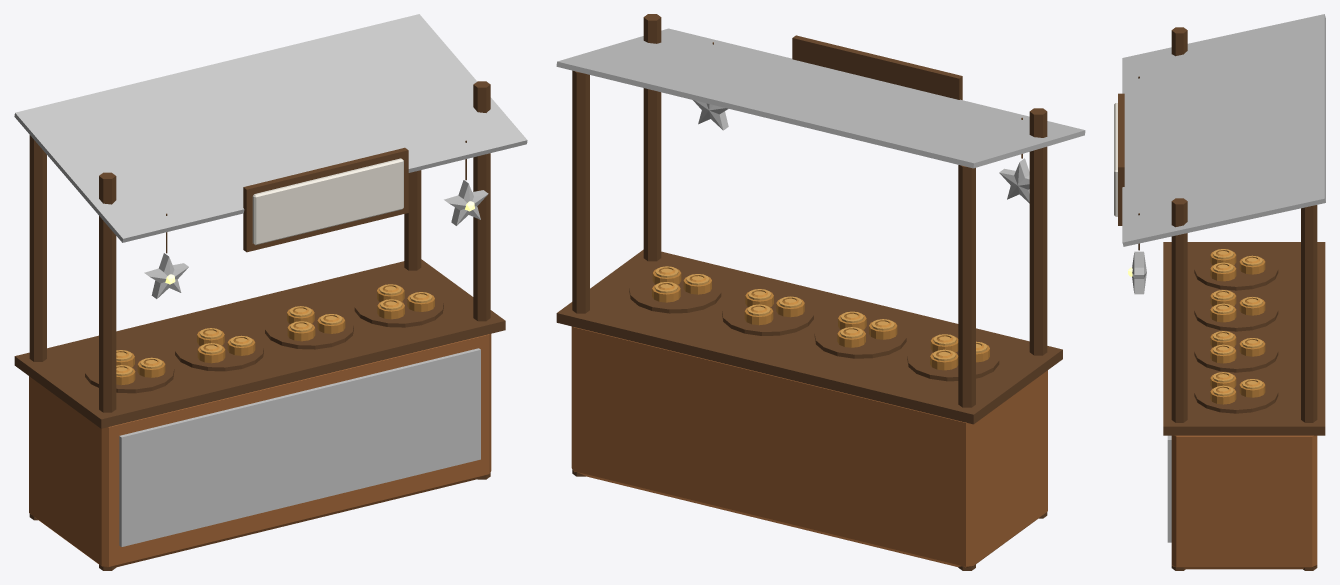
The model's file is ev_mooncake_stall_v01.glb.
3 renders of one model, left to right at view 1: azimuth 30°, elevation 25°; view 2: azimuth 150°, elevation 25°; view 3: azimuth 270°, elevation 25°, orthographic. The views are drawn at different scales.
Visible parts, largest first — view 1: mooncake_stall; view 2: mooncake_stall; view 3: mooncake_stall.
Part boxes in pixels (<box>): mooncake_stall: <box>14,14,527,570</box>; mooncake_stall: <box>556,14,1085,570</box>; mooncake_stall: <box>1114,14,1325,570</box>.
Size of the model in its own units: 2.7 by 2.56 by 1.31.
